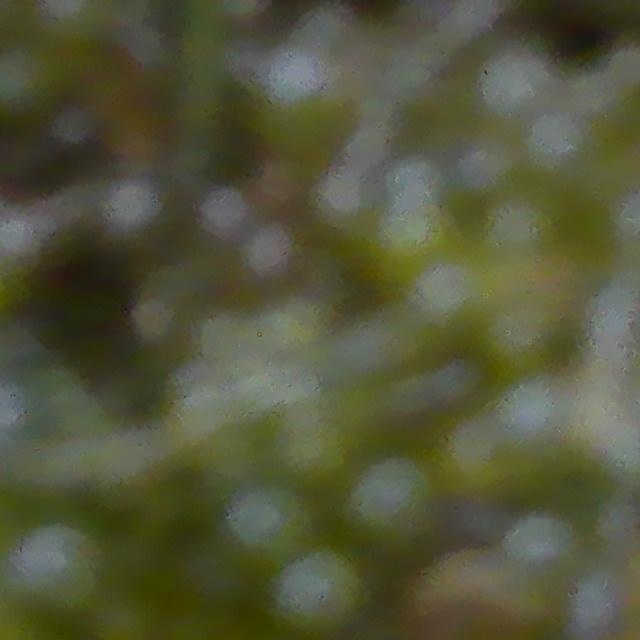SeaGrape: (6, 515, 108, 617), (270, 540, 369, 640), (346, 449, 441, 553), (224, 475, 313, 563), (496, 375, 582, 460), (479, 40, 555, 121), (0, 40, 67, 124), (277, 415, 349, 488), (504, 507, 579, 575), (456, 131, 516, 196), (525, 110, 586, 170), (93, 588, 163, 640)
